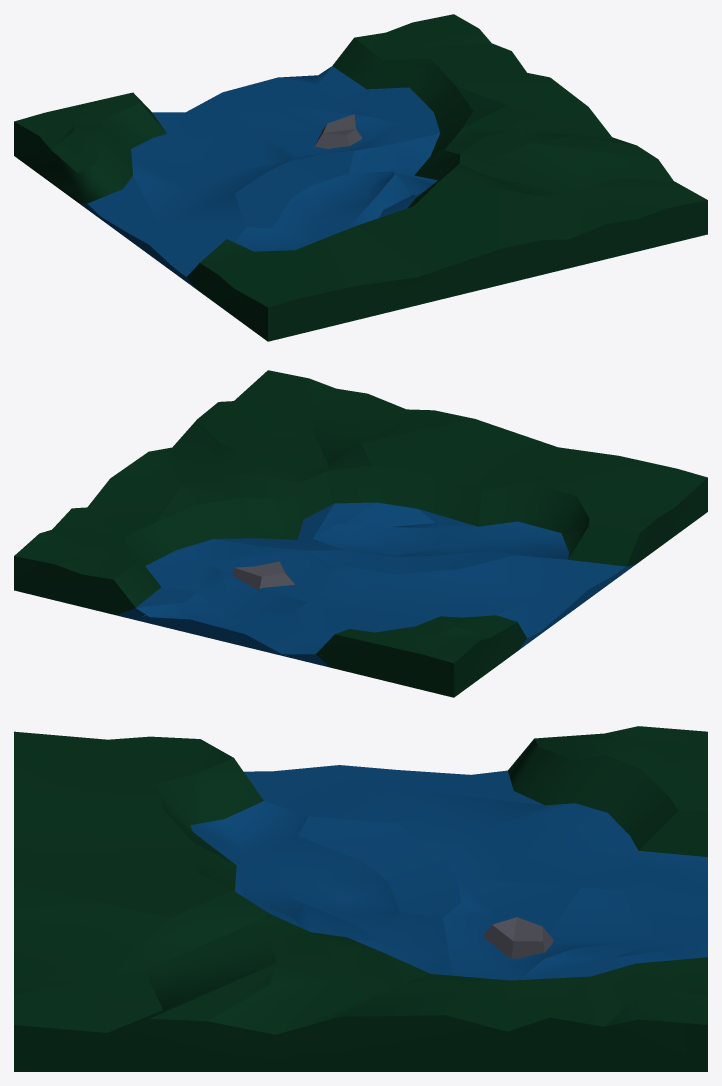
File: Water_Turn_RB.fbx
The picture shows the model from 3 angles, top to bottom: view 1: azimuth 30°, elevation 25°; view 2: azimuth 150°, elevation 25°; view 3: azimuth 270°, elevation 25°; orthographic projection. The views are drawn at different scales.
Visible parts, largest first — view 1: Water_Turn_RB; view 2: Water_Turn_RB; view 3: Water_Turn_RB.
Part boxes in pixels (x1,y1,x2,y2): Water_Turn_RB: (14,14,707,341); Water_Turn_RB: (14,370,707,697); Water_Turn_RB: (14,726,707,1071).
Size of the model in its own units: 147 by 13.54 by 147.
